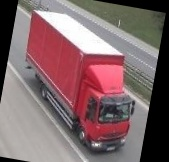truck: (11, 7, 150, 159)
